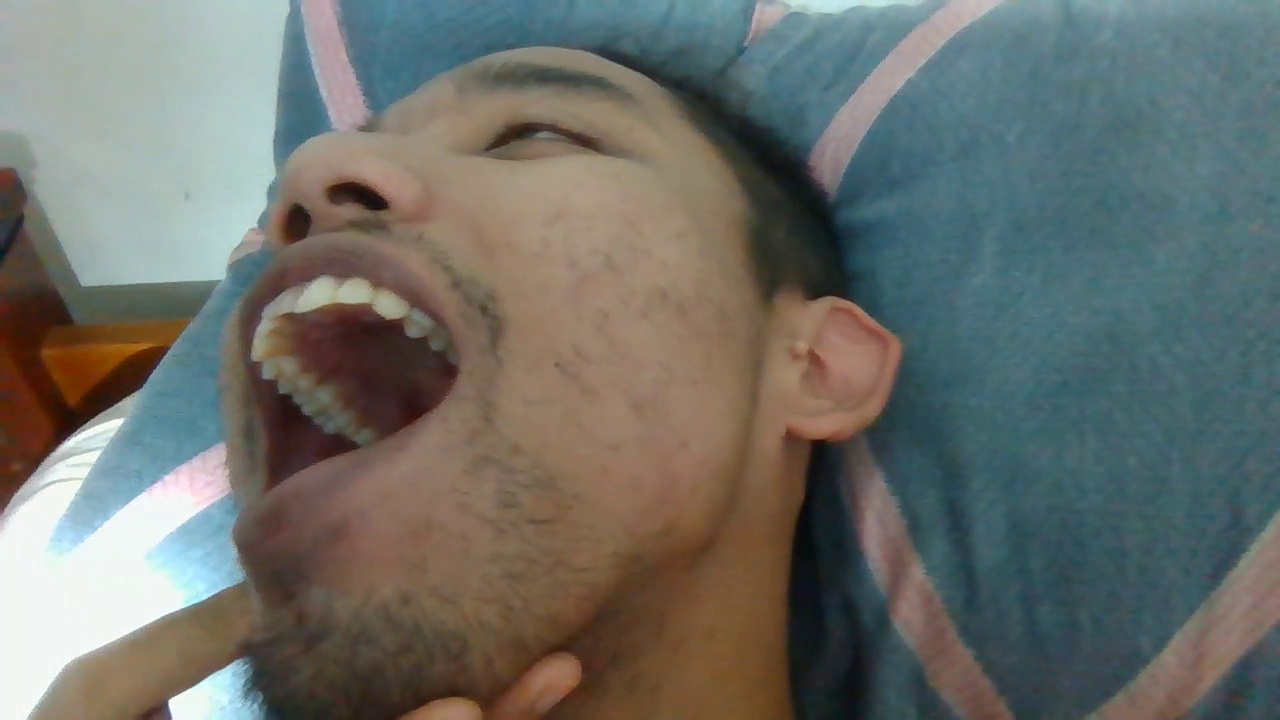1st Molar: (292, 386, 341, 415)
1st Premolar: (404, 304, 437, 337), (261, 357, 300, 378)
2nd Molar: (313, 411, 364, 432)
2nd Premolar: (276, 374, 314, 394)
3rd Molar: (346, 428, 388, 448)
Canine: (372, 282, 411, 319), (249, 339, 296, 358)
Central Incisor: (296, 274, 341, 311), (261, 286, 297, 316)
Lateral Incisor: (251, 317, 299, 339), (341, 274, 372, 303)
